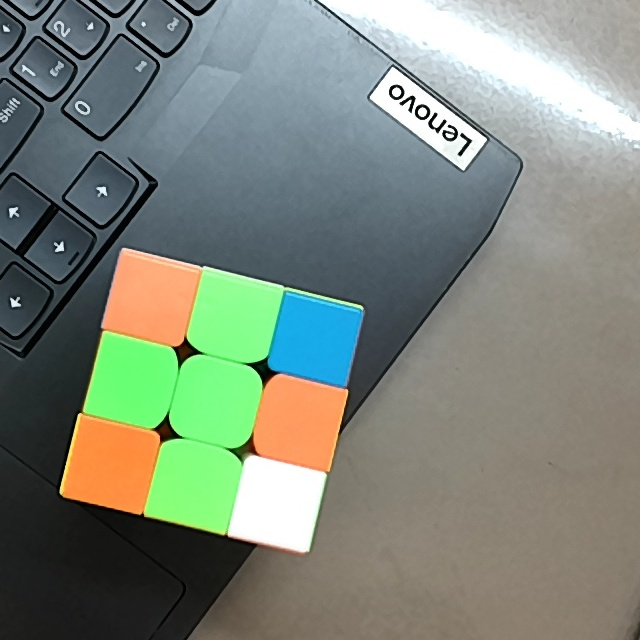tile: (77, 434, 146, 494), (119, 267, 183, 329), (201, 286, 263, 350), (284, 309, 348, 371), (162, 454, 226, 516), (102, 350, 165, 412), (270, 389, 332, 451), (184, 372, 248, 432), (246, 473, 307, 535)
